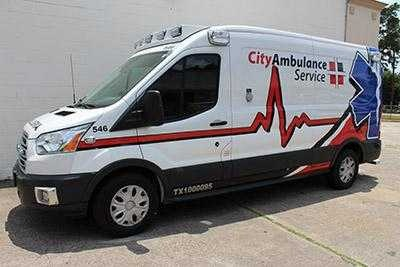Ambulance: (17, 19, 383, 240)
